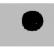correct: (21, 8, 44, 33)
